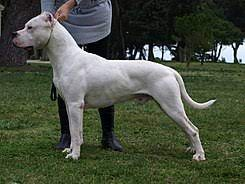dog: (10, 9, 219, 163)
